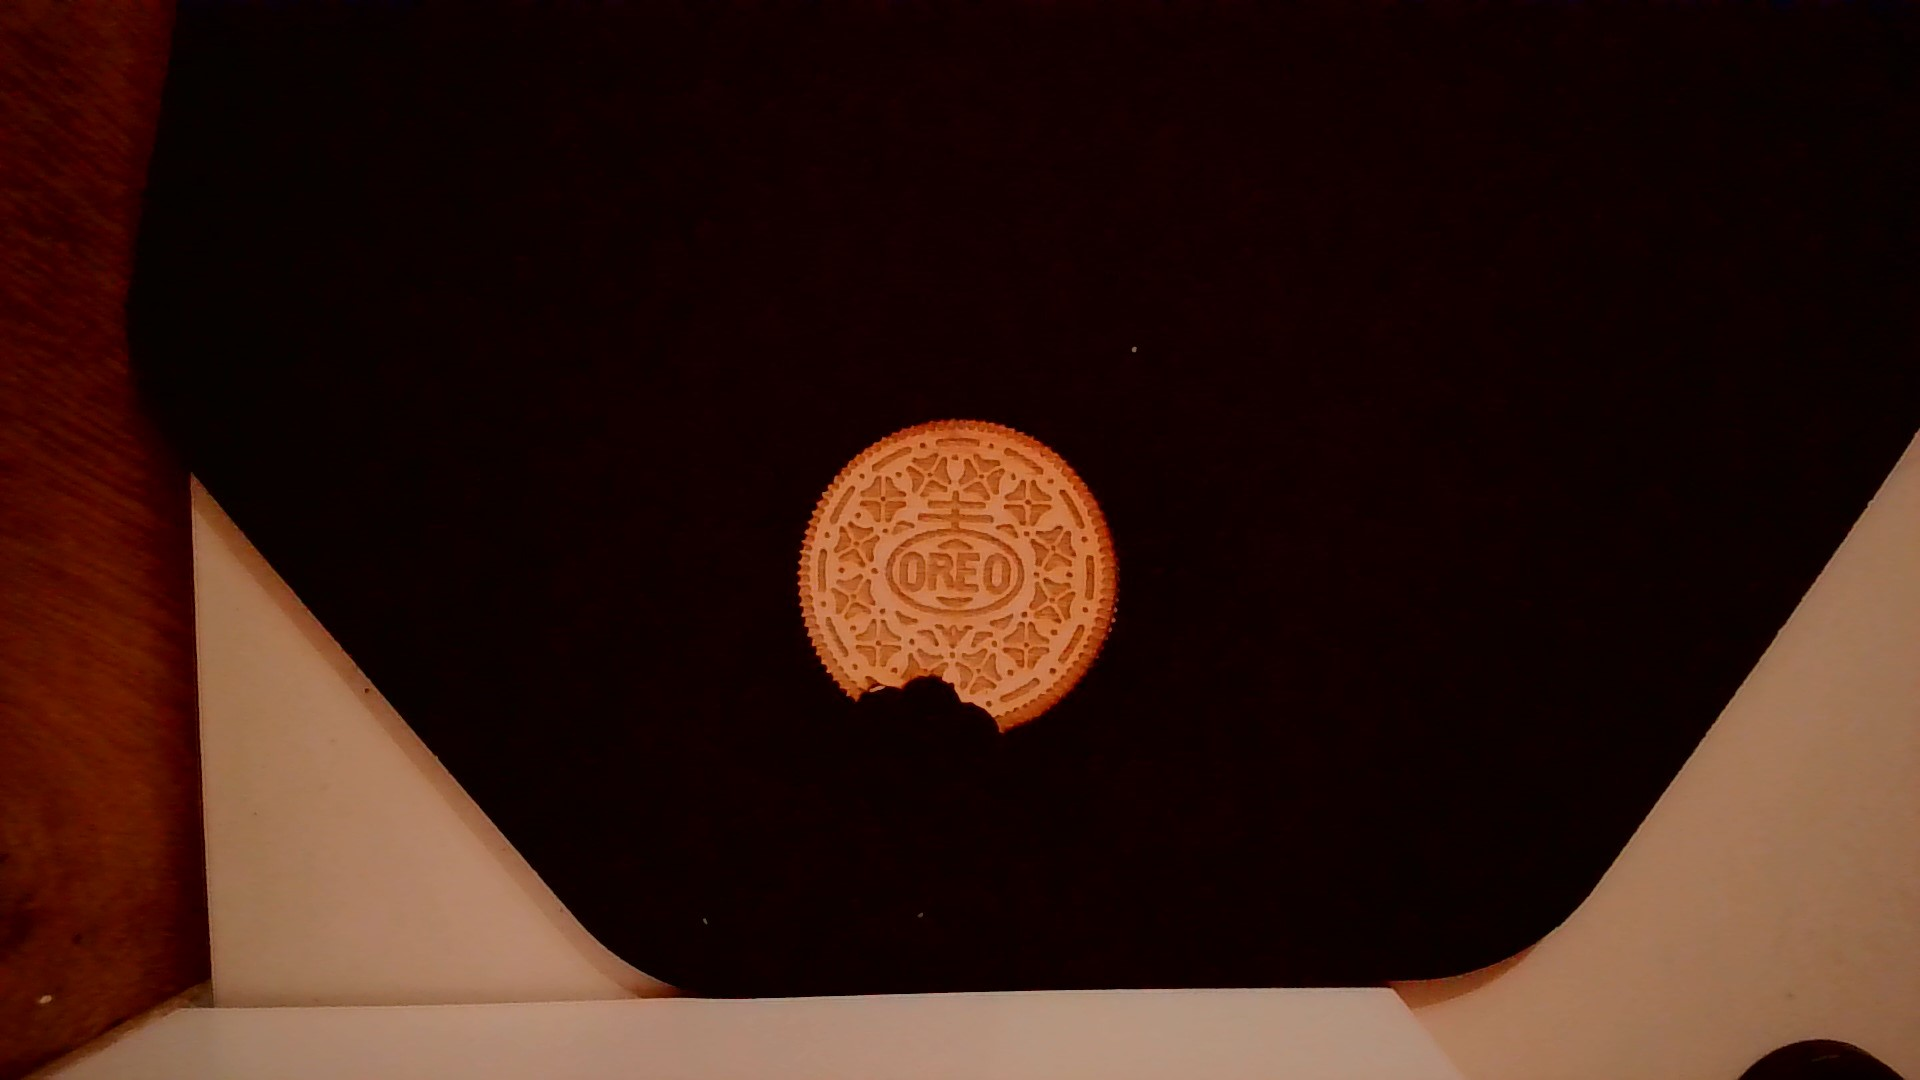Mangé: (822, 653, 1015, 752)
Oréo: (794, 411, 1126, 741)
